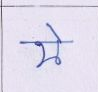e_matra: (46, 22, 64, 41)
